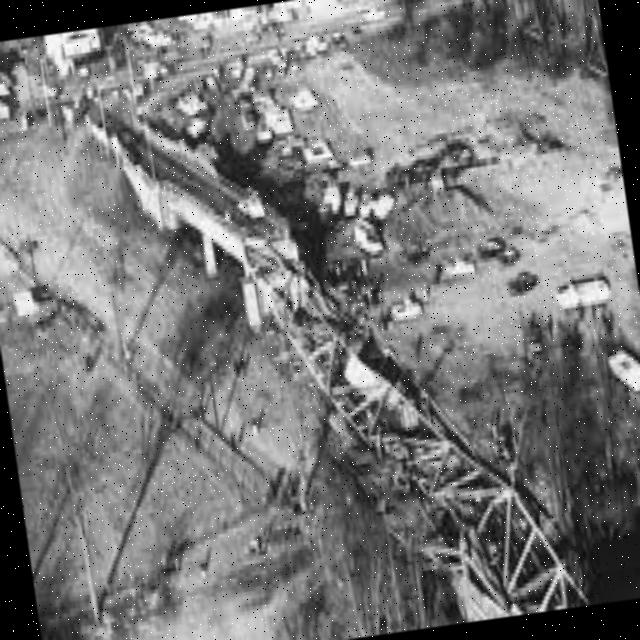bridge collapse: (113, 16, 613, 640)
